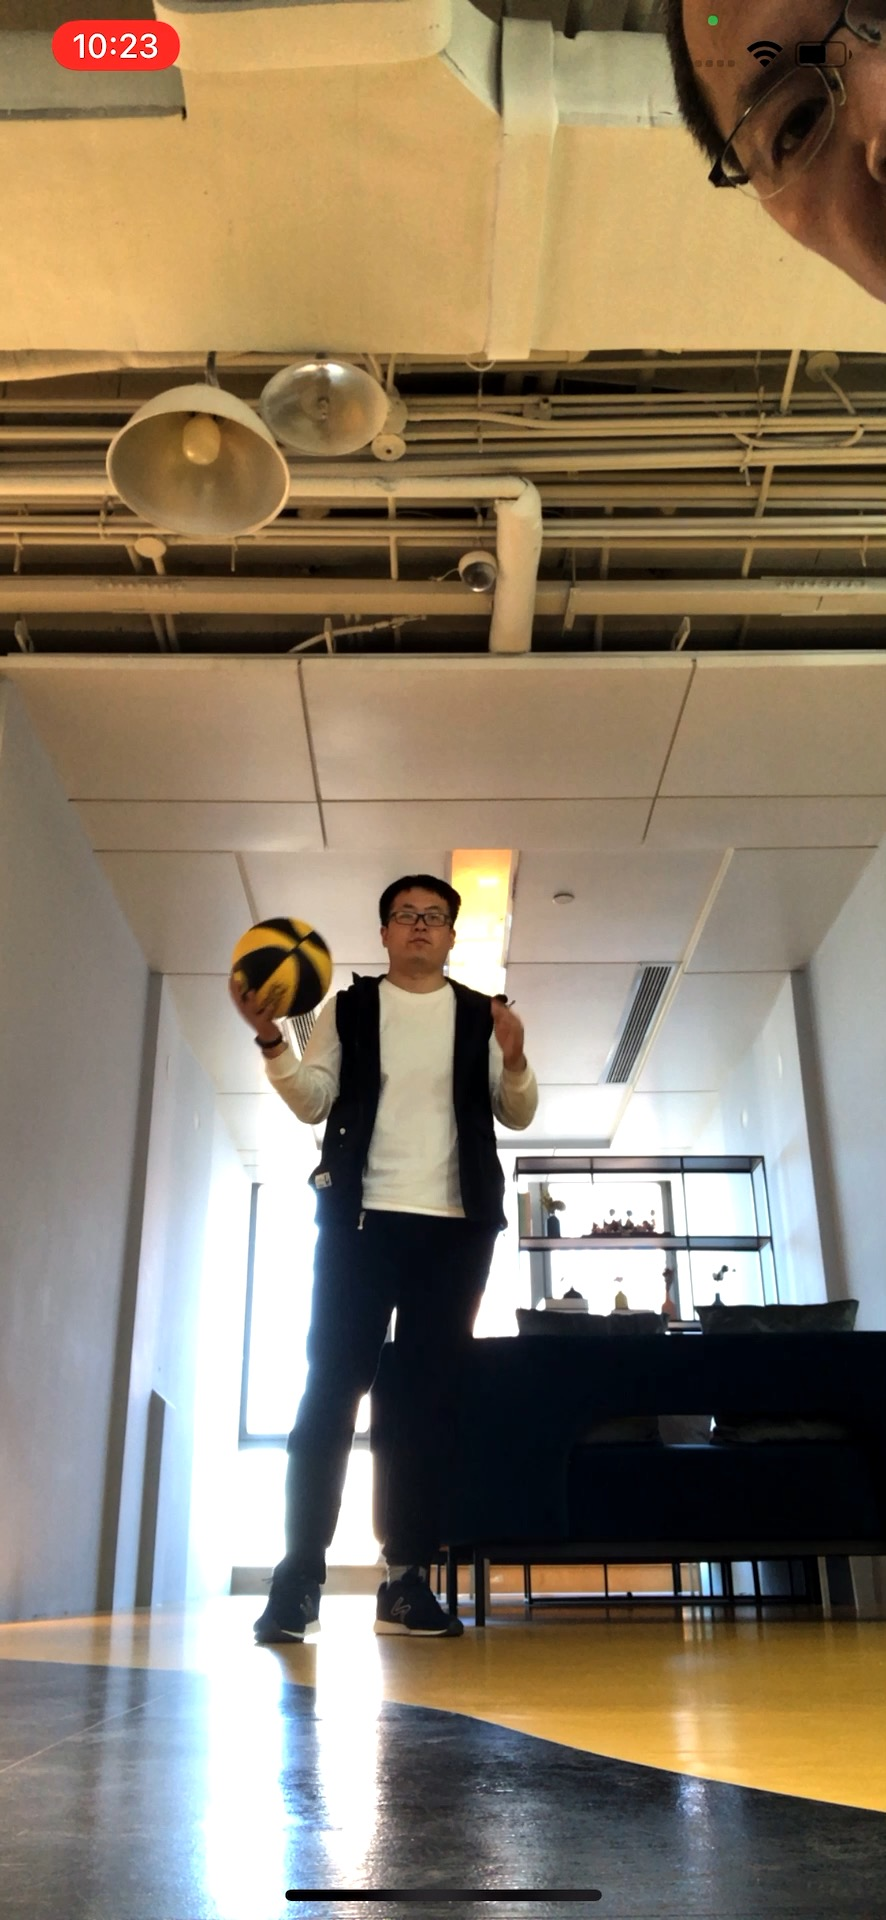ball: (235, 920, 333, 1016)
